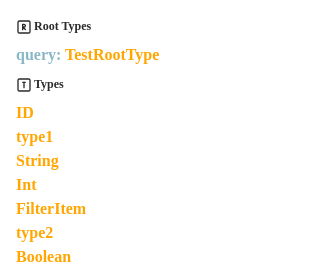
Test case: Documentation › does not render field description and arguments if they are absent from the schema
The width and height of the screenshot is (320, 279).
Click the link "TestRootType" at (112, 54), box [65, 46, 159, 63]
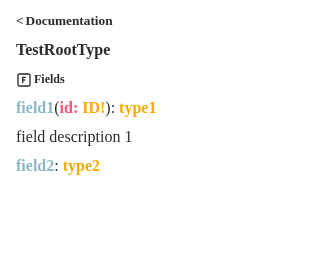
Click the link "field2" at (35, 166), box [16, 157, 54, 174]
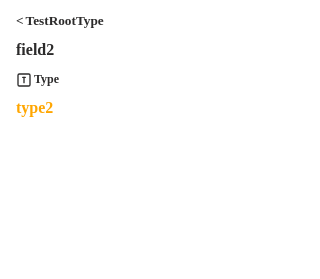
Expected: the heading "field2" is shown, [16, 41, 54, 58]
Expected: no elements with test id "argument" are shown
